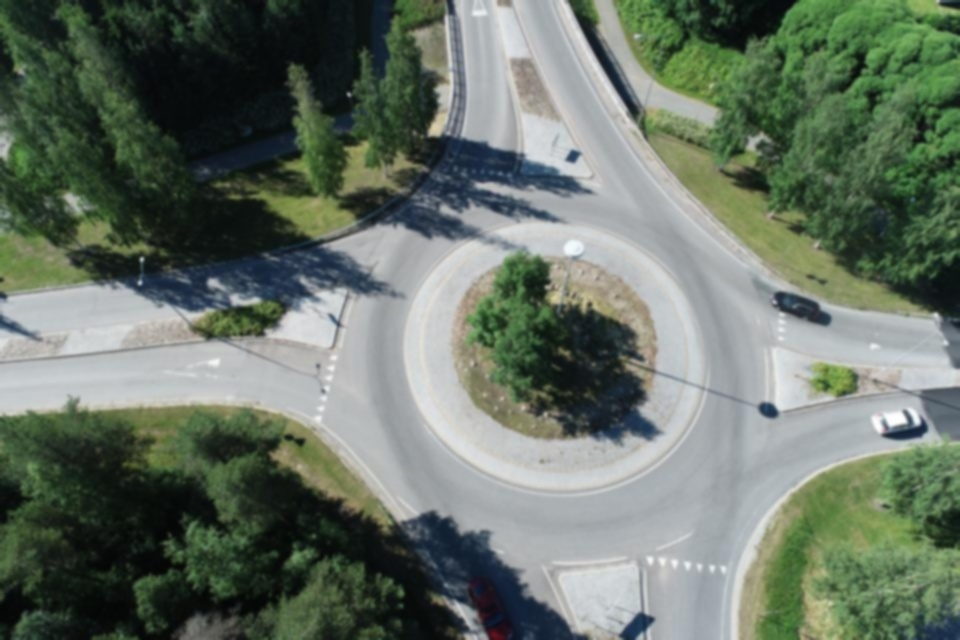roundabout: (304, 154, 852, 606)
